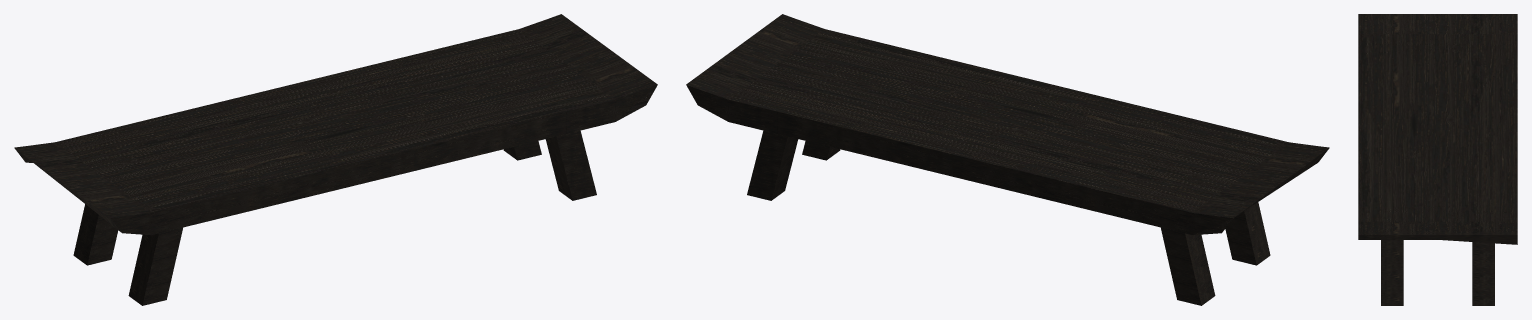
The model's file is Mesa.obj.
3 renders of one model, left to right at view 1: azimuth 30°, elevation 25°; view 2: azimuth 150°, elevation 25°; view 3: azimuth 270°, elevation 25°, orthographic. The views are drawn at different scales.
Parts seen in each view (by area): view 1: Cube.003_Cube; view 2: Cube.003_Cube; view 3: Cube.003_Cube.
Part boxes in pixels (bbox=[...]): Cube.003_Cube: bbox=[14, 14, 657, 305]; Cube.003_Cube: bbox=[686, 14, 1329, 305]; Cube.003_Cube: bbox=[1358, 14, 1517, 305].
Bounding box in the file's own units: 2.99 × 0.568 × 0.9115.
Materials: 1 (1 with a texture image).
